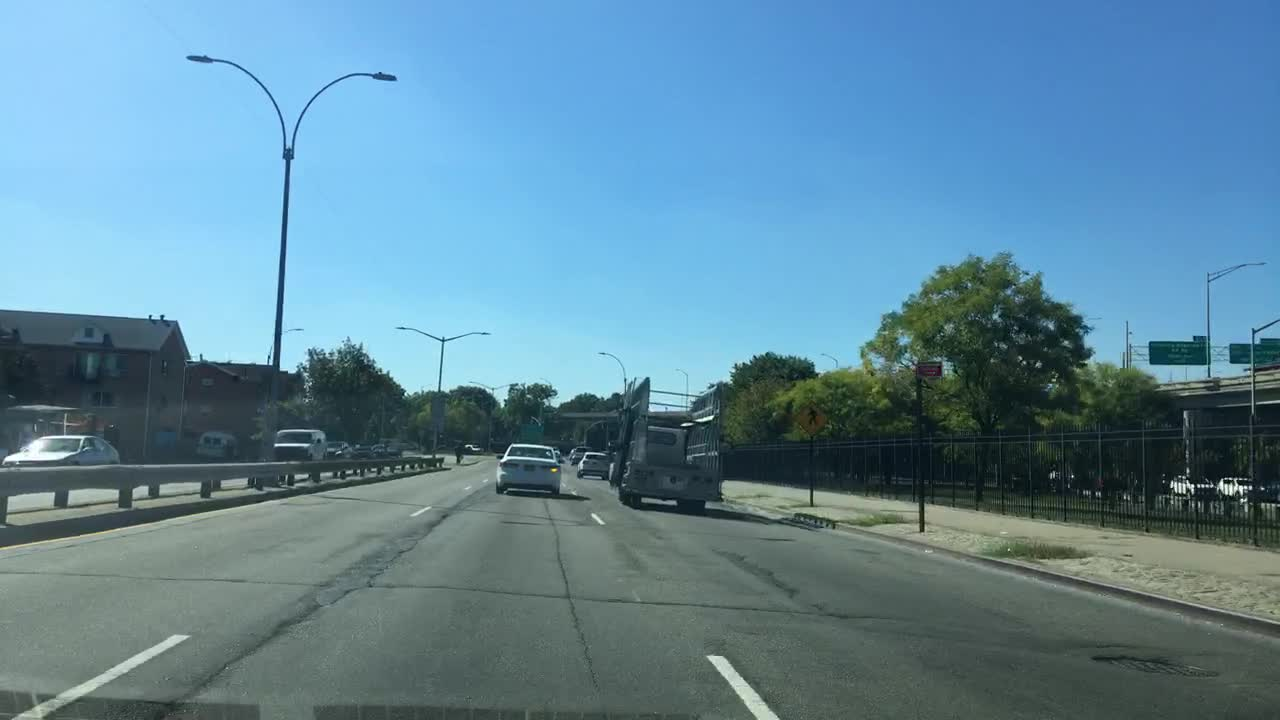car: (0, 432, 120, 467), (493, 442, 561, 496), (272, 429, 327, 459), (1216, 474, 1265, 502), (194, 429, 238, 459), (575, 450, 614, 479), (1169, 473, 1214, 498), (1047, 467, 1078, 489), (1090, 473, 1125, 491), (326, 438, 348, 458), (345, 443, 373, 458), (568, 445, 586, 465), (463, 441, 484, 454), (385, 444, 404, 458), (370, 443, 384, 460), (554, 445, 563, 459), (567, 448, 575, 458)
traffic sign: (1147, 340, 1210, 366), (794, 399, 827, 437), (1256, 336, 1278, 366), (518, 422, 545, 442), (914, 358, 942, 377), (1229, 343, 1252, 364), (428, 394, 445, 417), (1192, 333, 1209, 341)
truck: (607, 376, 727, 513)
